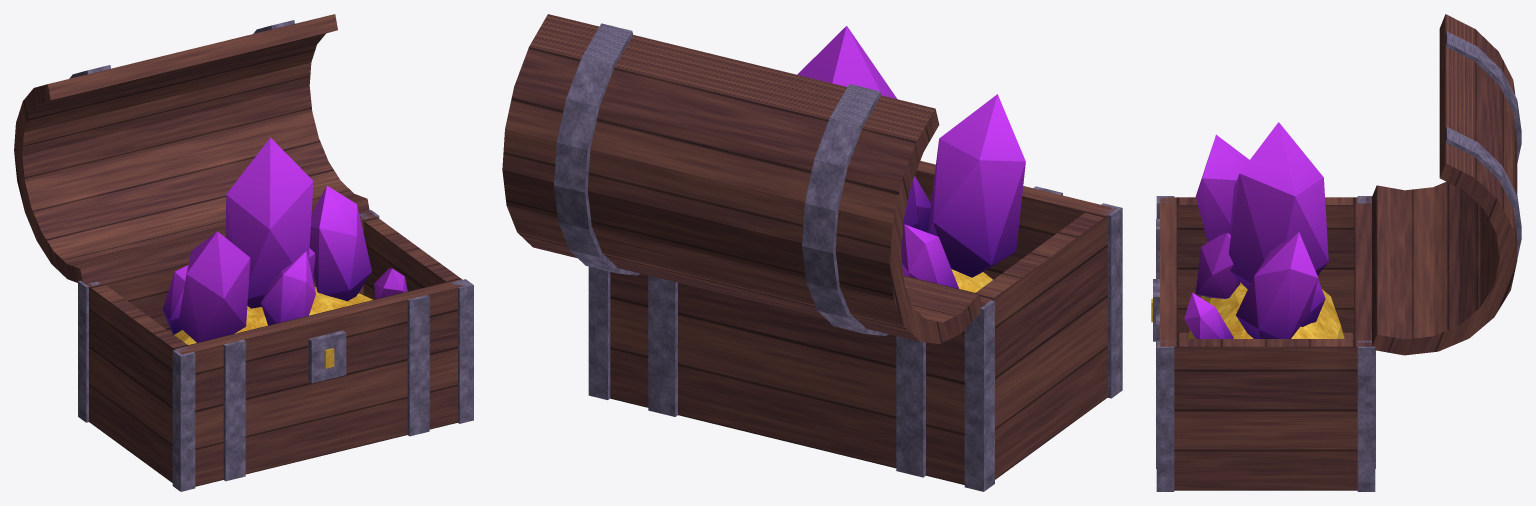
The model's file is SM_CrystalChest.fbx.
3 views of the same model, side by side, from view 1: azimuth 30°, elevation 25°; view 2: azimuth 150°, elevation 25°; view 3: azimuth 270°, elevation 25° (orthographic). The views are drawn at different scales.
Parts seen in each view (by area): view 1: SM_CrystalChest; view 2: SM_CrystalChest; view 3: SM_CrystalChest.
Part boxes in pixels (x1,y1,x2,y2): SM_CrystalChest: (14, 14, 473, 491); SM_CrystalChest: (502, 14, 1122, 491); SM_CrystalChest: (1151, 14, 1521, 491).
Size of what is drawn, in the model's own units: 102 by 103 by 105.
Materials: 5 (5 with a texture image).
